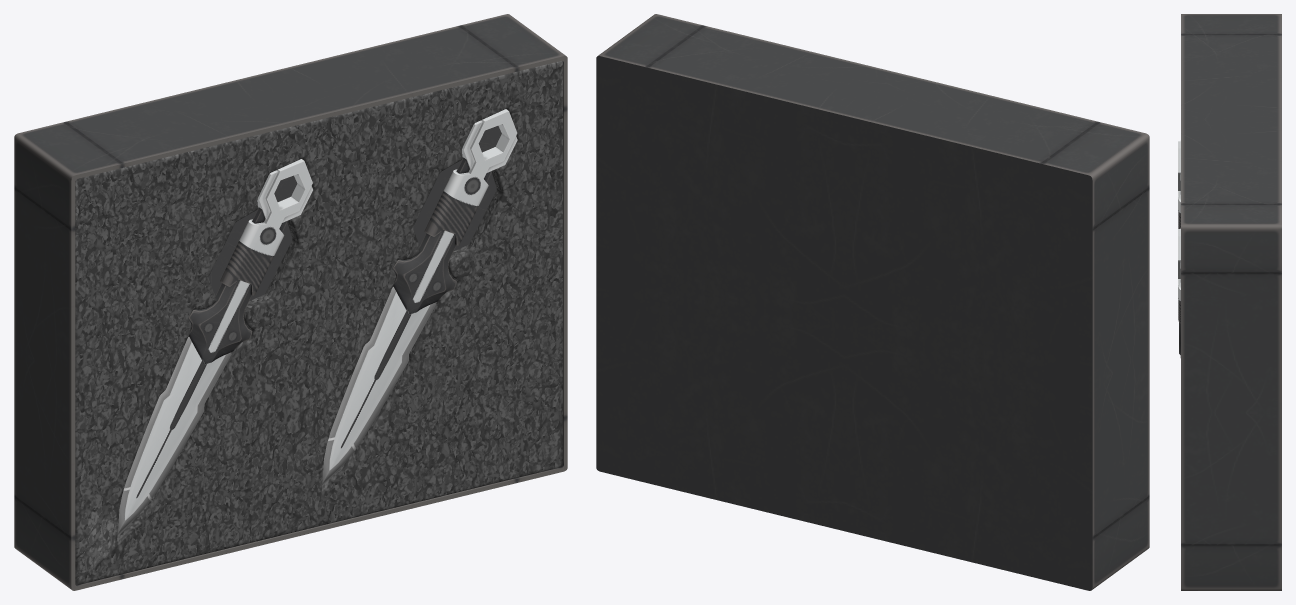
Rendered from MeleePulseBlade03Case.FBX.
3 renders of one model, left to right at view 1: azimuth 30°, elevation 25°; view 2: azimuth 150°, elevation 25°; view 3: azimuth 270°, elevation 25°, orthographic. The views are drawn at different scales.
Visible parts, largest first — view 1: Case, Weapon; view 2: Case; view 3: Case, Weapon.
Part boxes in pixels (<box>): Case: <box>14,14,567,590</box>; Weapon: <box>117,109,517,535</box>; Case: <box>596,14,1149,590</box>; Case: <box>1181,14,1281,590</box>; Weapon: <box>1178,140,1180,357</box>.
Size of what is drawn, in the model's own units: 0.5 by 0.4 by 0.1027.
